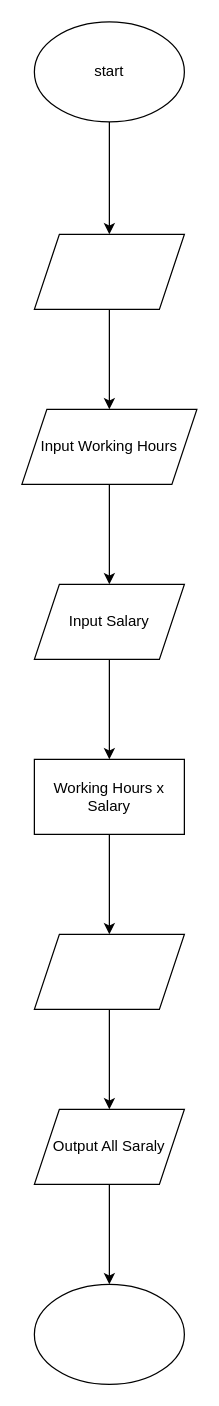
The diagram is 219 pixels wide and 1406 high, and some of its shapes have lost their labels. The box of each missing label's shape, as (x1, y1, x2, y2) in pixels:
End: (33, 1283, 184, 1384)
Input ID: (33, 233, 184, 309)
Output ID: (33, 933, 184, 1009)
